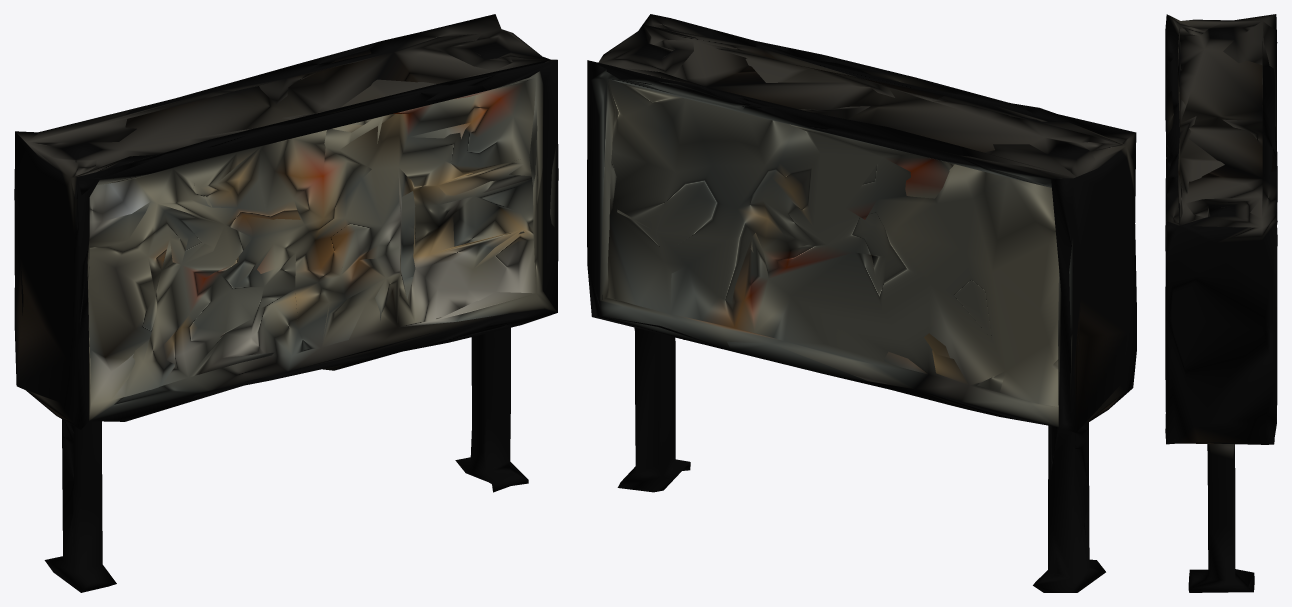
The model's file is gen3d-city-map-board-lod0.glb.
The picture shows the model from 3 angles, left to right: view 1: azimuth 30°, elevation 25°; view 2: azimuth 150°, elevation 25°; view 3: azimuth 270°, elevation 25°; orthographic projection. The views are drawn at different scales.
Parts seen in each view (by area): view 1: part_0; view 2: part_0; view 3: part_0.
Part boxes in pixels (x1=…): part_0: x1=14, y1=14, x2=558, y2=592; part_0: x1=587, y1=14, x2=1136, y2=592; part_0: x1=1165, y1=14, x2=1277, y2=592.
Bounding box in the file's own units: 1.17 × 0.9972 × 0.2666.
